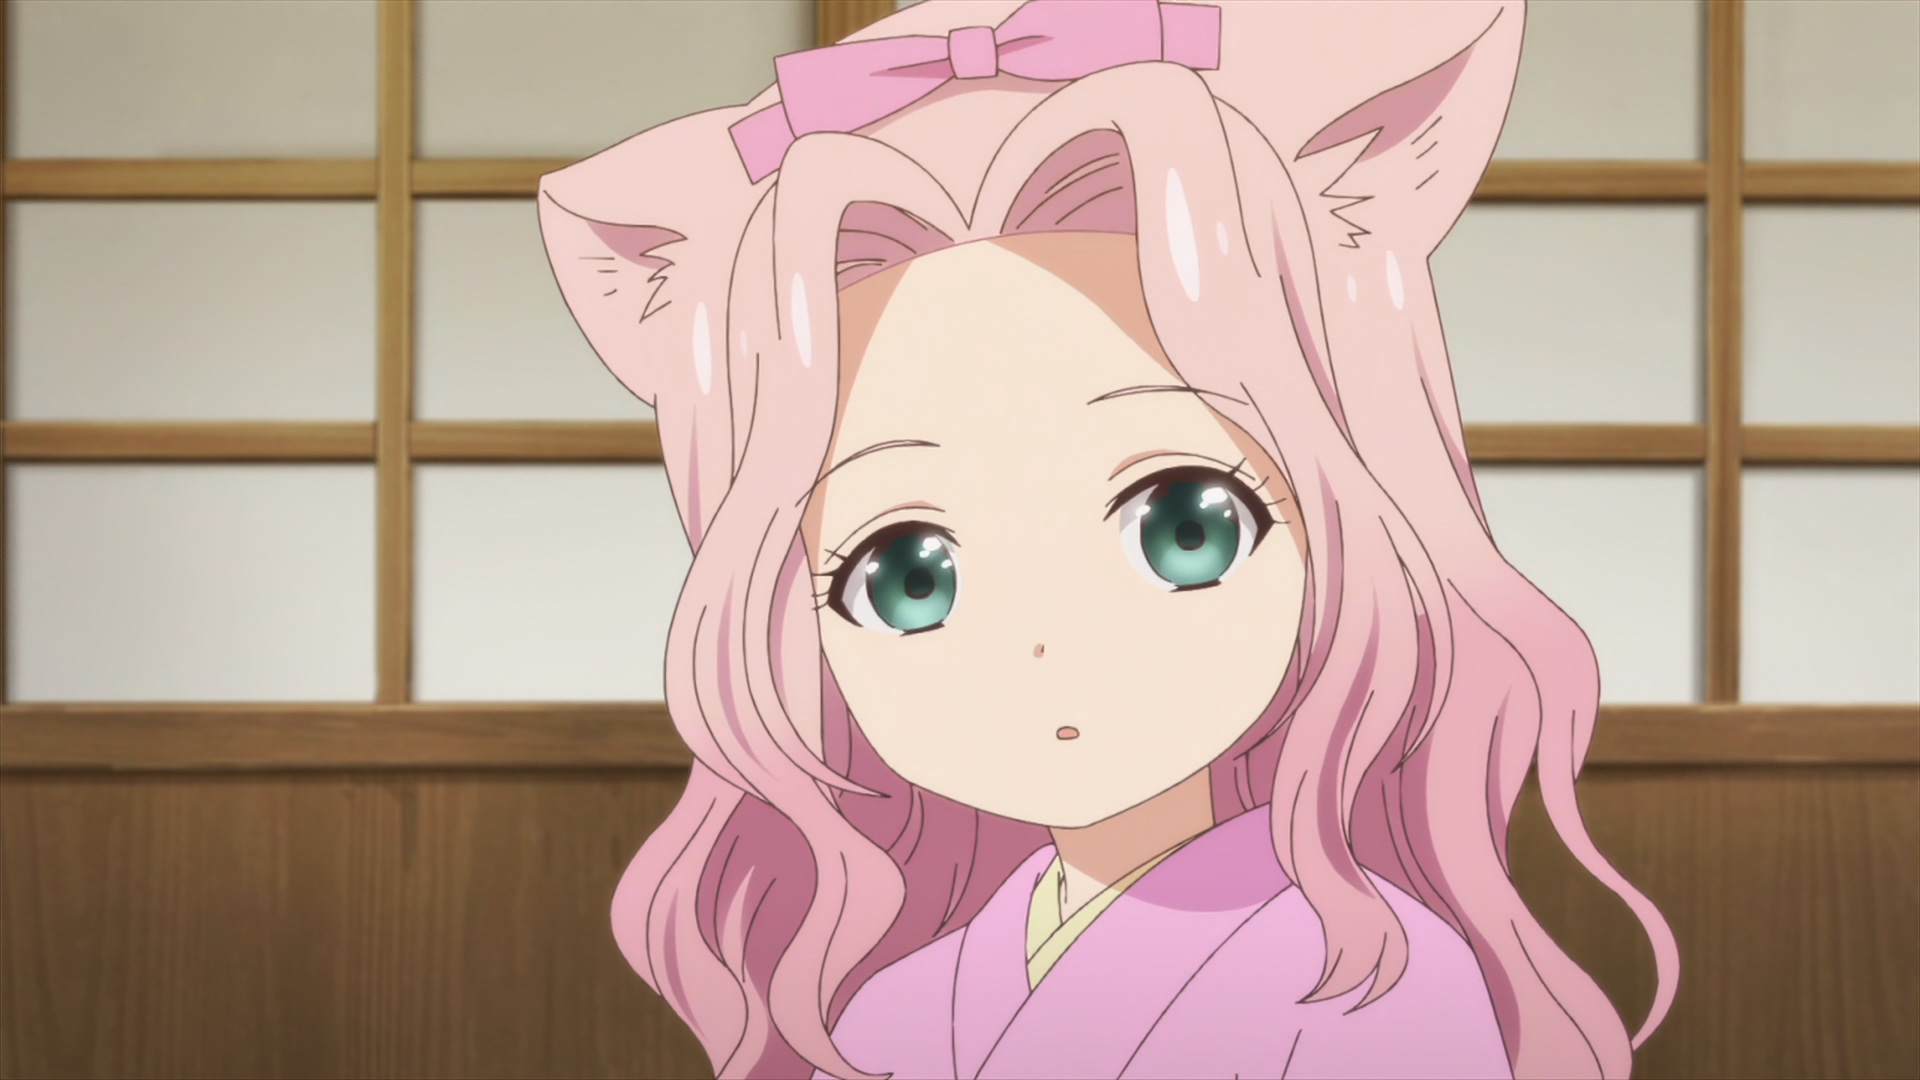莲: (538, 1, 1680, 1080)
